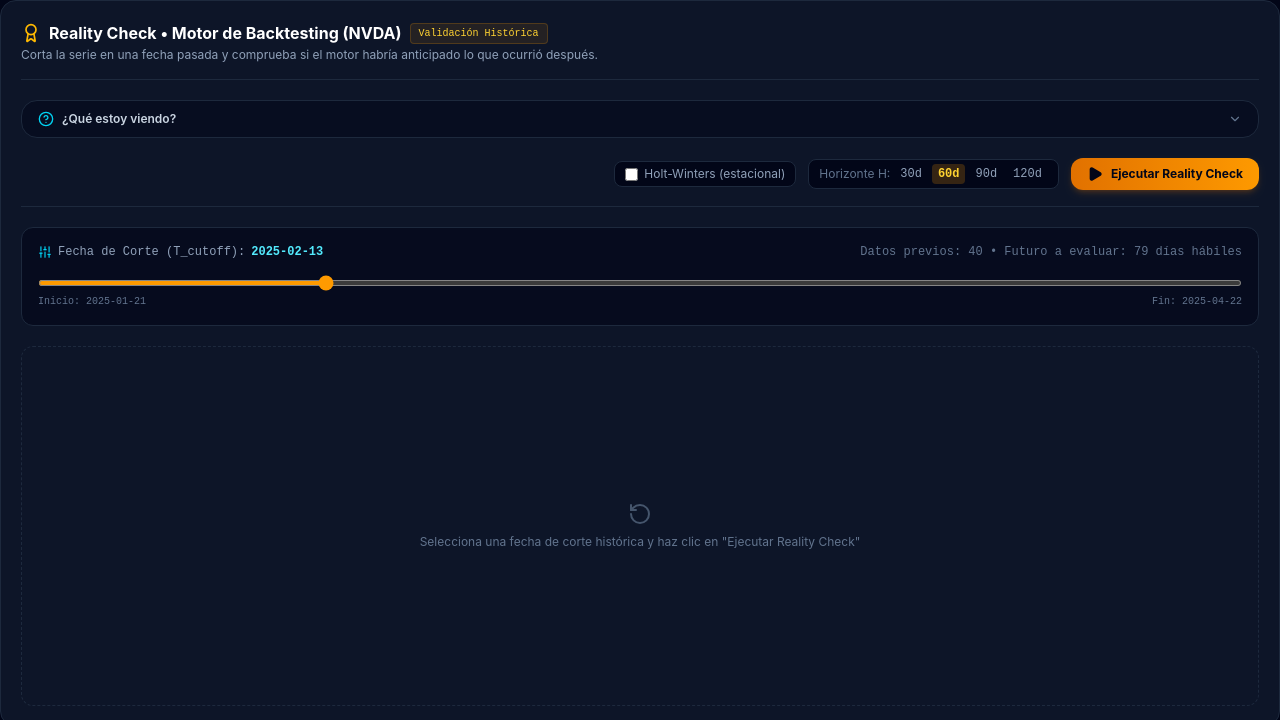
BacktestPanel › asks for a shorter horizon when it exceeds TimesFM's maximum
Step 1. Click the button "Ejecutar Reality Check" → (1165, 174), box [1071,158,1259,190]
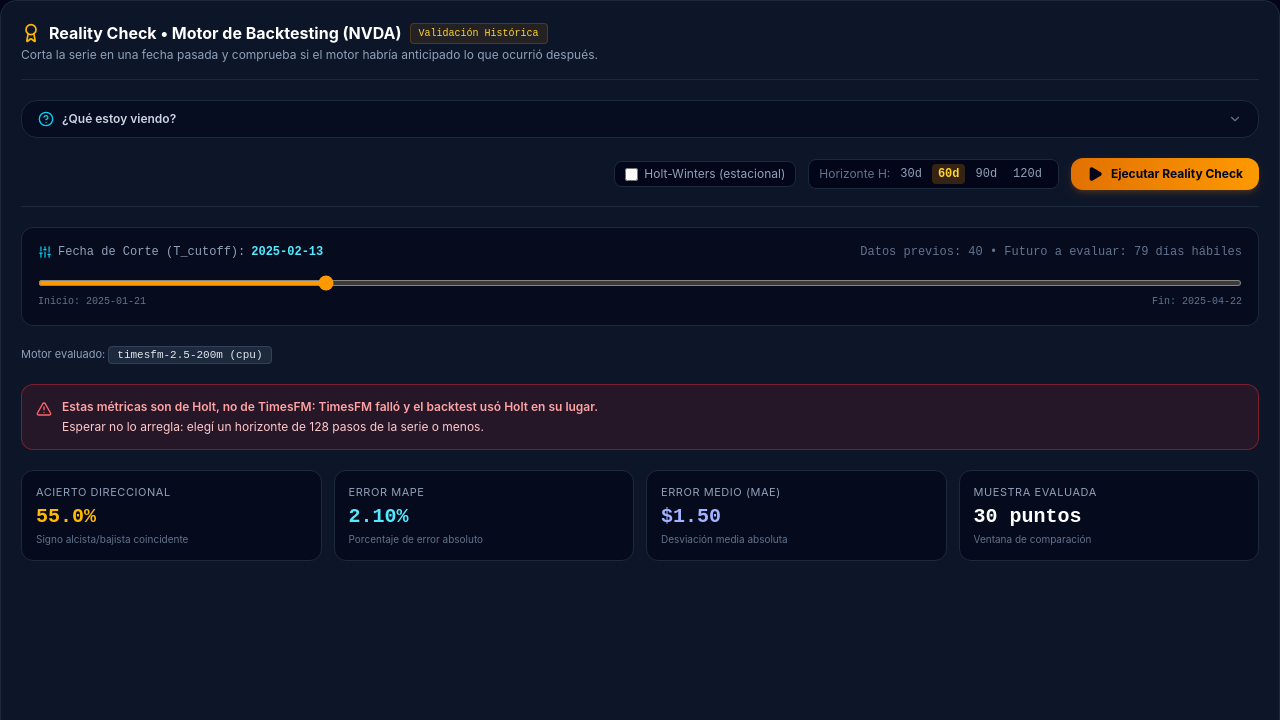
expect the message shows "horizonte de 128 pasos de la serie o menos": met, box [62,418,484,434]
